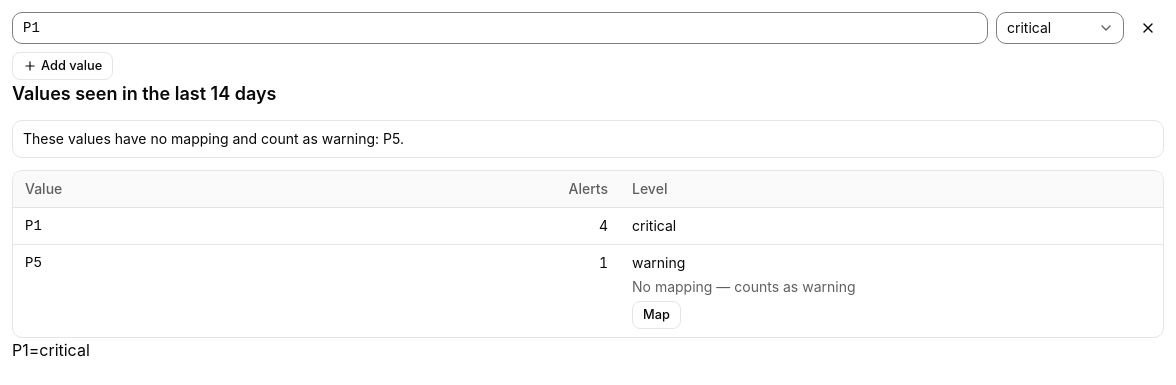
Scenario: severity mapping editor › Map on a value seen adds it with the focus on its level
Expected: the heading "Values seen in the last 14 days" is shown, left=12, top=83, right=276, bottom=104
Expected: the text "No mapping — counts as warning" is shown, left=632, top=277, right=856, bottom=297
Click the button with aria-label "Map P5": (656, 315) left=632, top=301, right=681, bottom=329
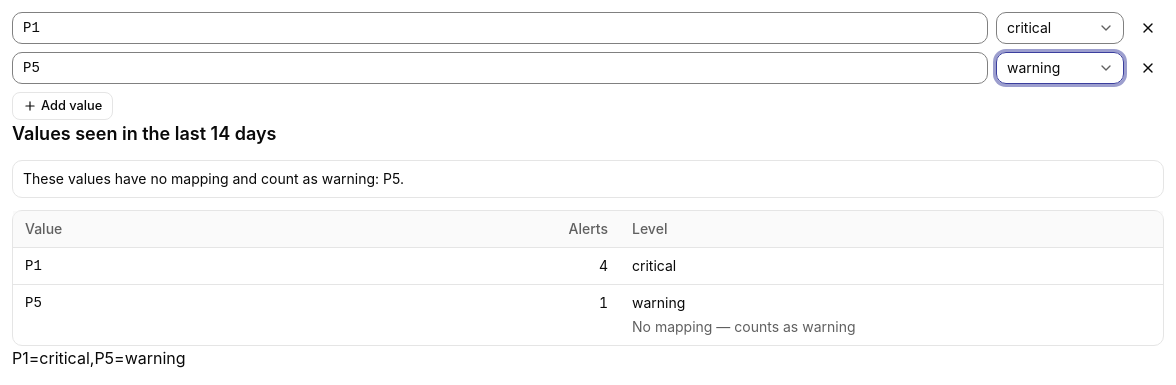
Now the text with test id "mapping" reads "P1=critical,P5=warning", box left=12, top=348, right=186, bottom=368
